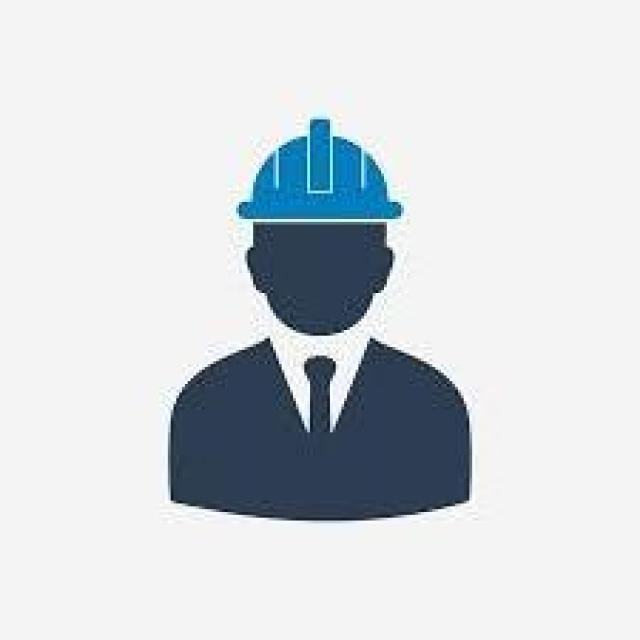safety_helmet: (230, 124, 415, 232)
